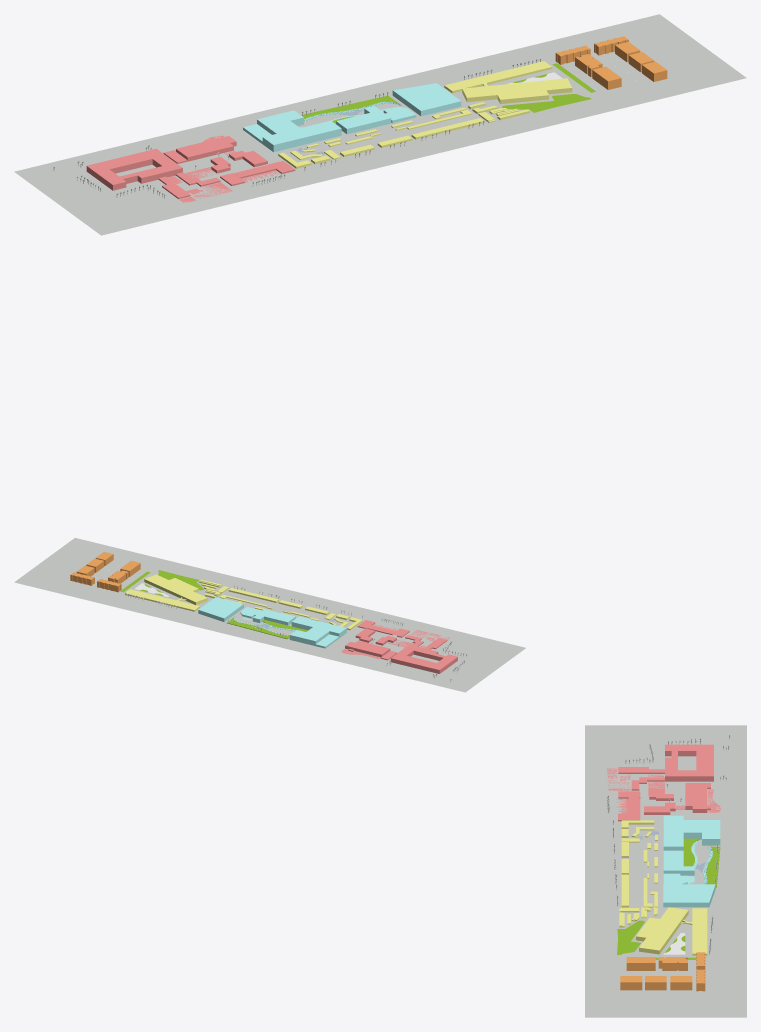
File: ren_colored.glb
3 renders of one model, top to bottom at view 1: azimuth 30°, elevation 25°; view 2: azimuth 150°, elevation 25°; view 3: azimuth 270°, elevation 25°, orthographic. The views are drawn at different scales.
Bounding box in the file's own units: 1914 × 24.45 × 2004.
